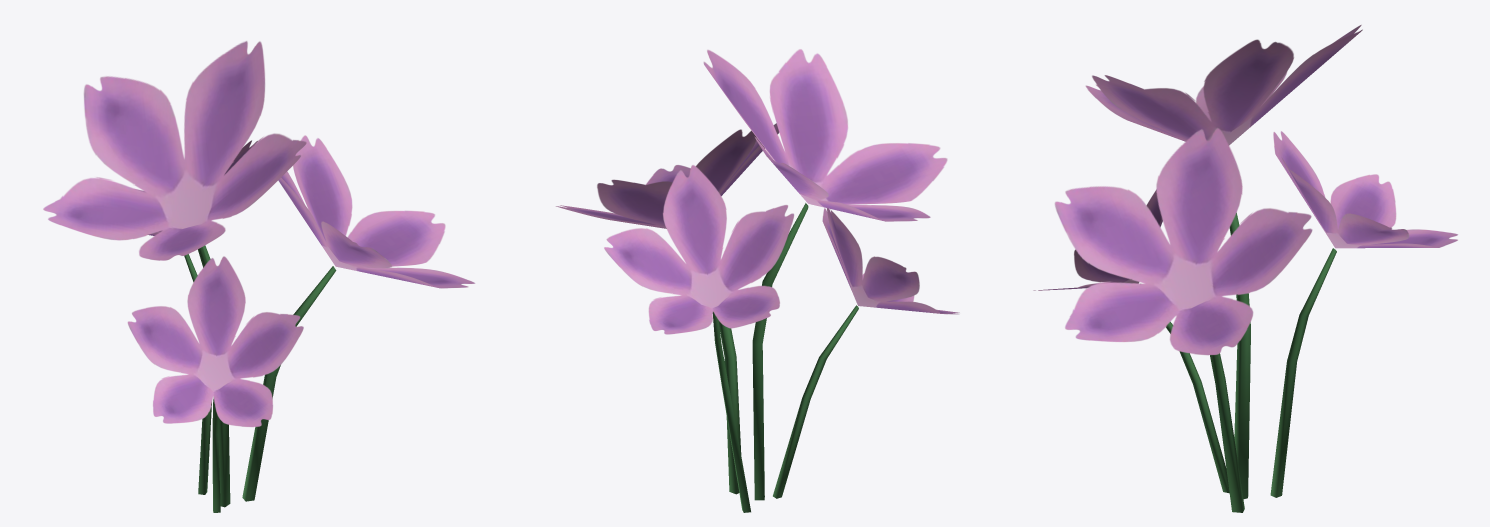
The model's file is Flower_5_Clump.glb.
3 views of the same model, side by side, from view 1: azimuth 30°, elevation 25°; view 2: azimuth 150°, elevation 25°; view 3: azimuth 270°, elevation 25° (orthographic). The views are drawn at different scales.
Parts seen in each view (by area): view 1: Flower_5_Clump; view 2: Flower_5_Clump; view 3: Flower_5_Clump.
Boxes of the visible parts, x1,y1,x2,y2 form: Flower_5_Clump: (43,41,475,512); Flower_5_Clump: (555,49,959,512); Flower_5_Clump: (1033,25,1457,512).
Size of the model in its own units: 0.426 by 0.4508 by 0.3735.
Materials: 1 (1 with a texture image).
